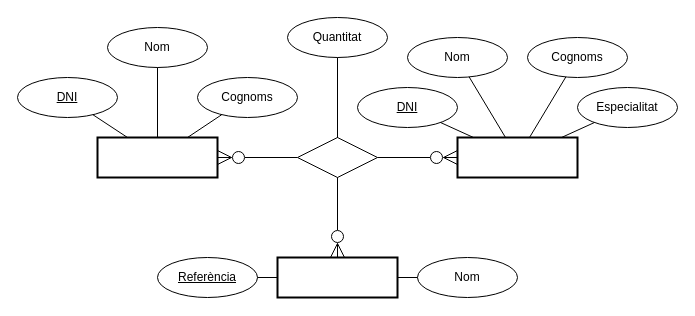
This 695x316 diagram has some shape labels left out. Here are the shapes that lost their labels. From the top down, the centre of each, then its label:
At point 157,157: "PACIENT".
At point 337,157: "prescriu".
At point 517,157: "METGE".
At point 337,277: "MEDICINA".
